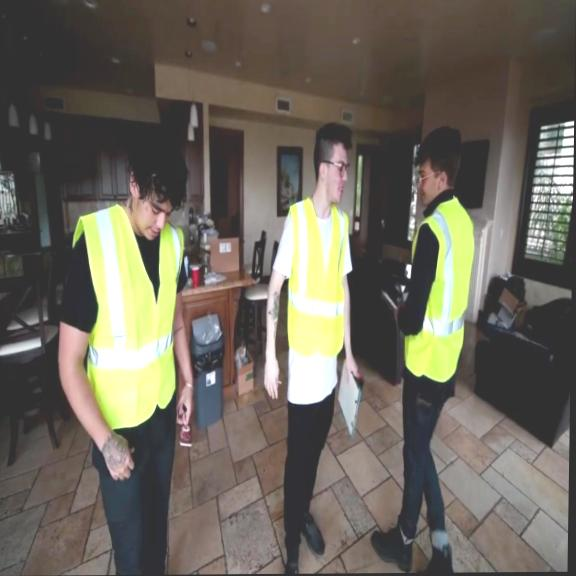safety_vest: (67, 203, 184, 432), (402, 195, 479, 383), (287, 198, 350, 355)
